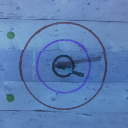Axe Tip: (62, 64, 71, 67)
